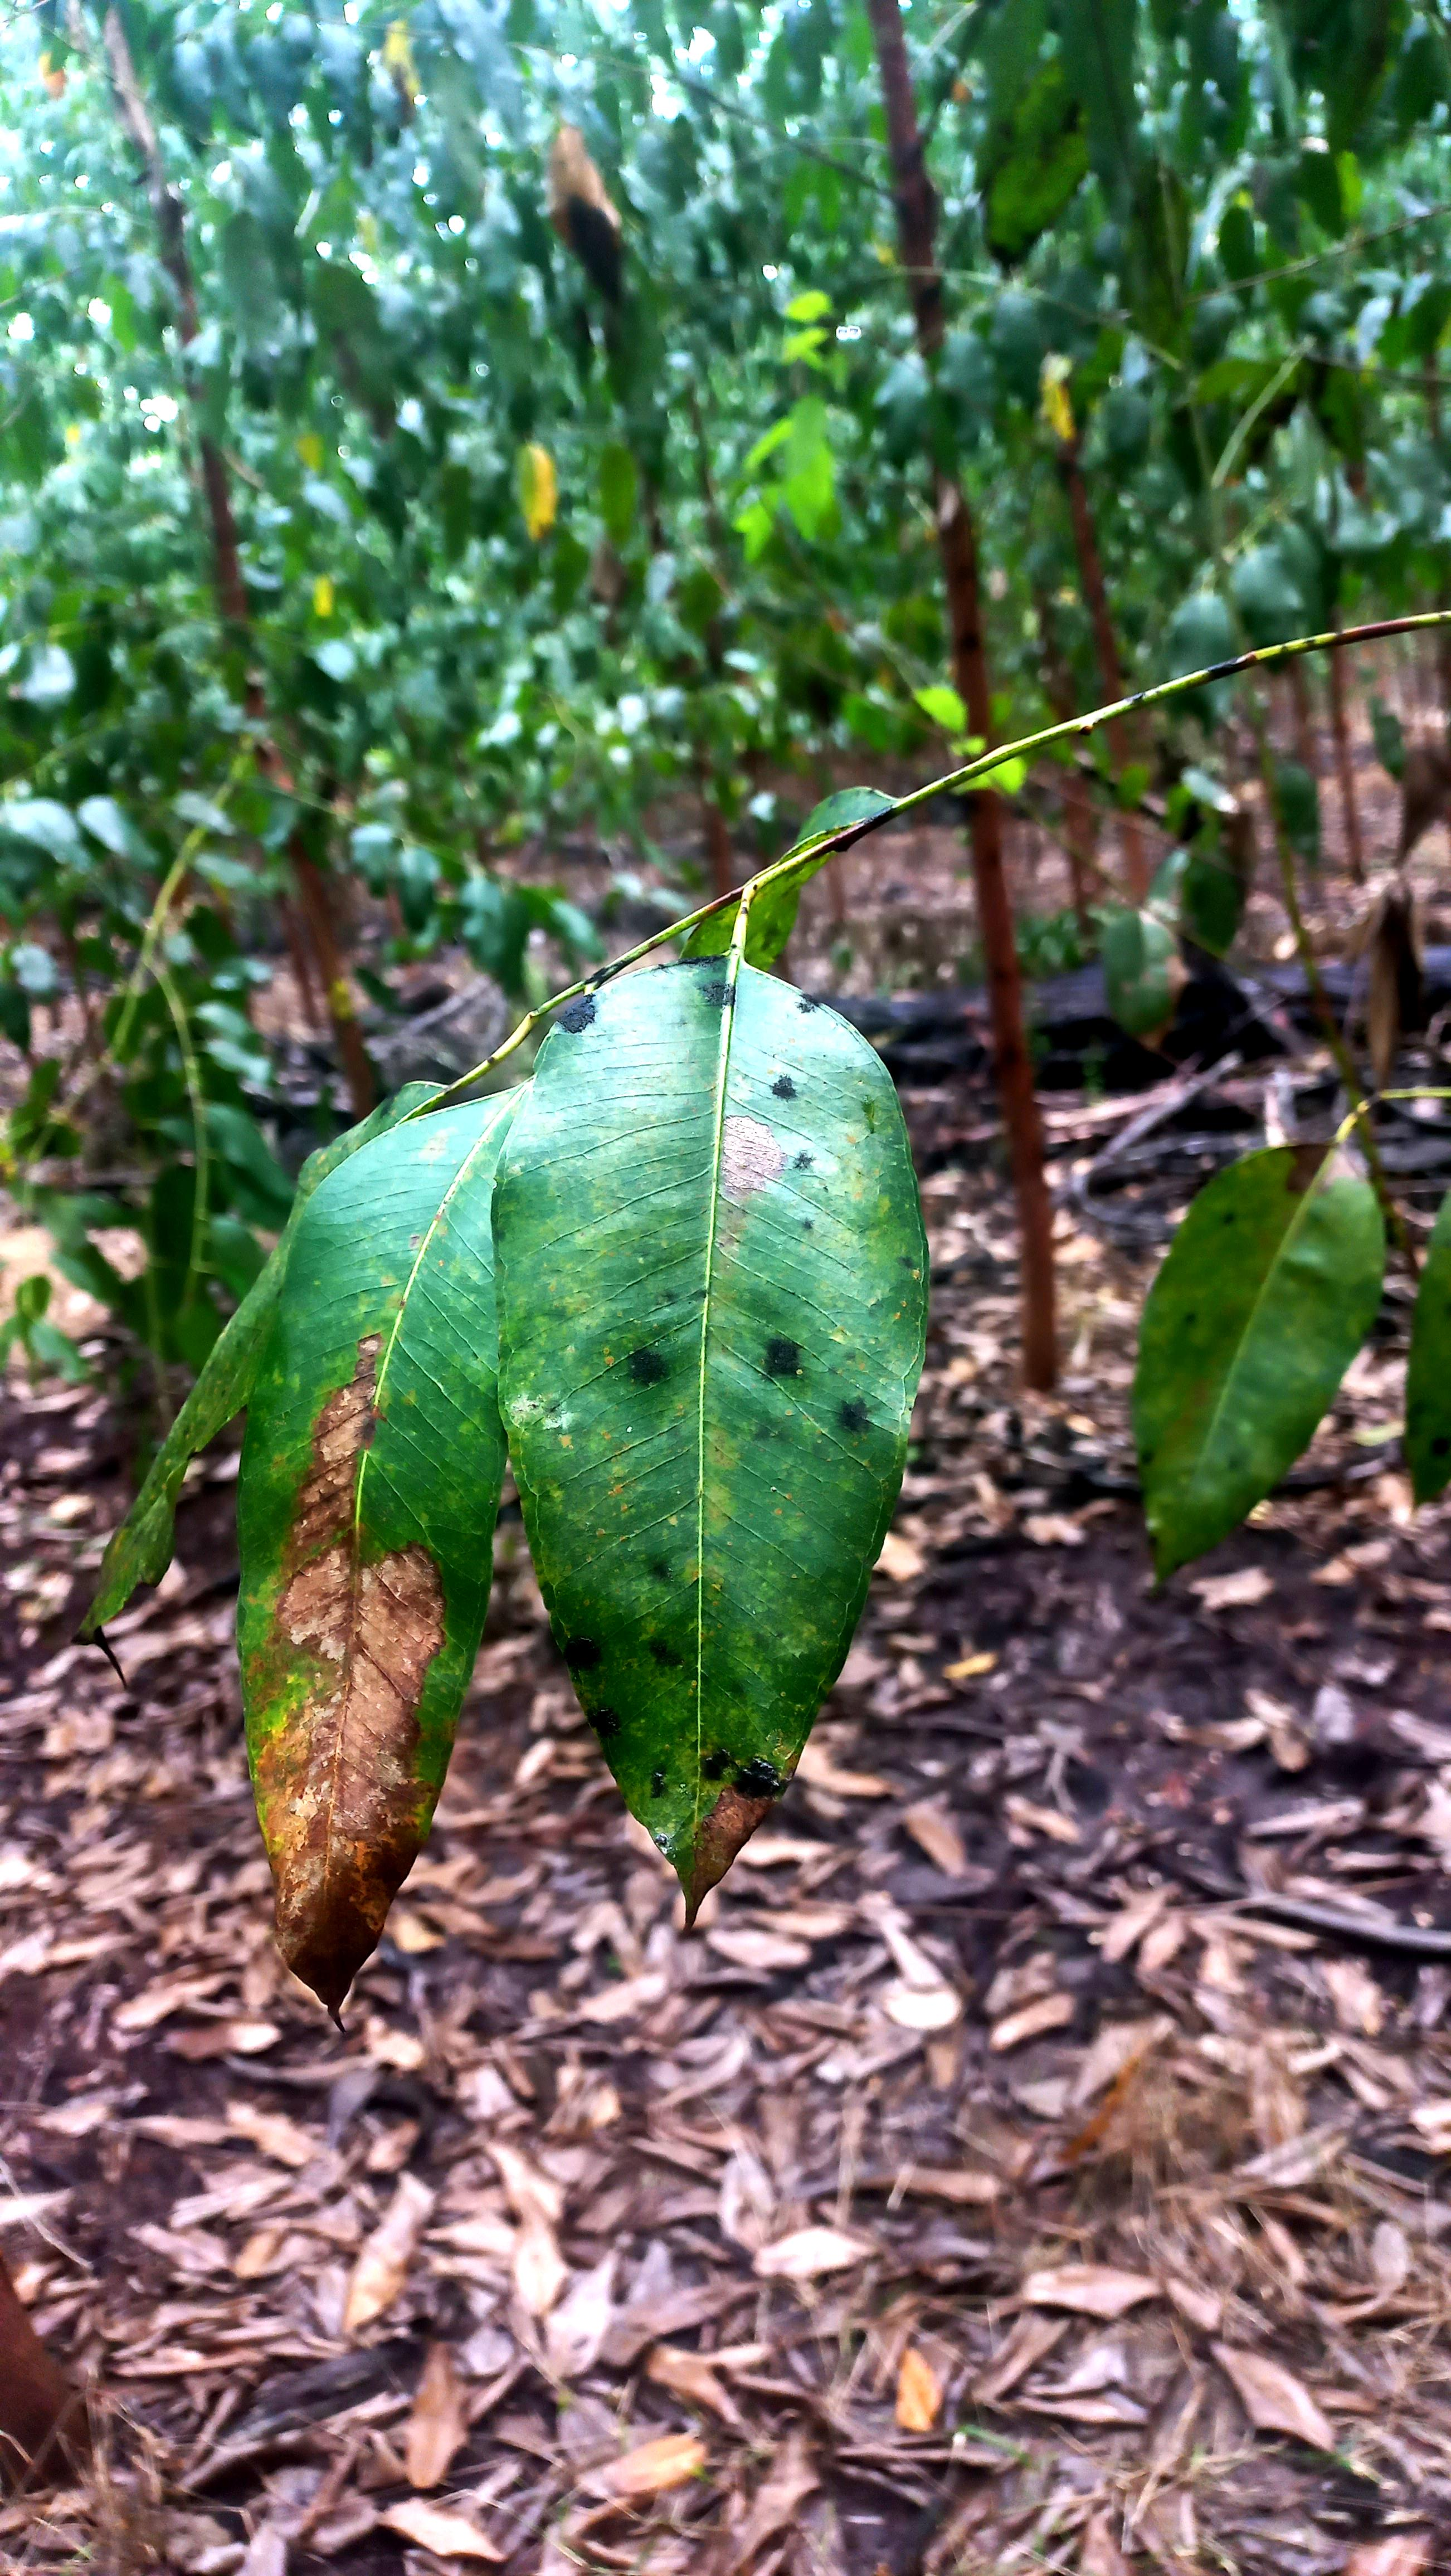Cylindrocladium: (248, 1371, 471, 2017), (1265, 1132, 1387, 1223), (658, 1778, 733, 1870)
Embun Jelaga: (526, 982, 888, 1813)
